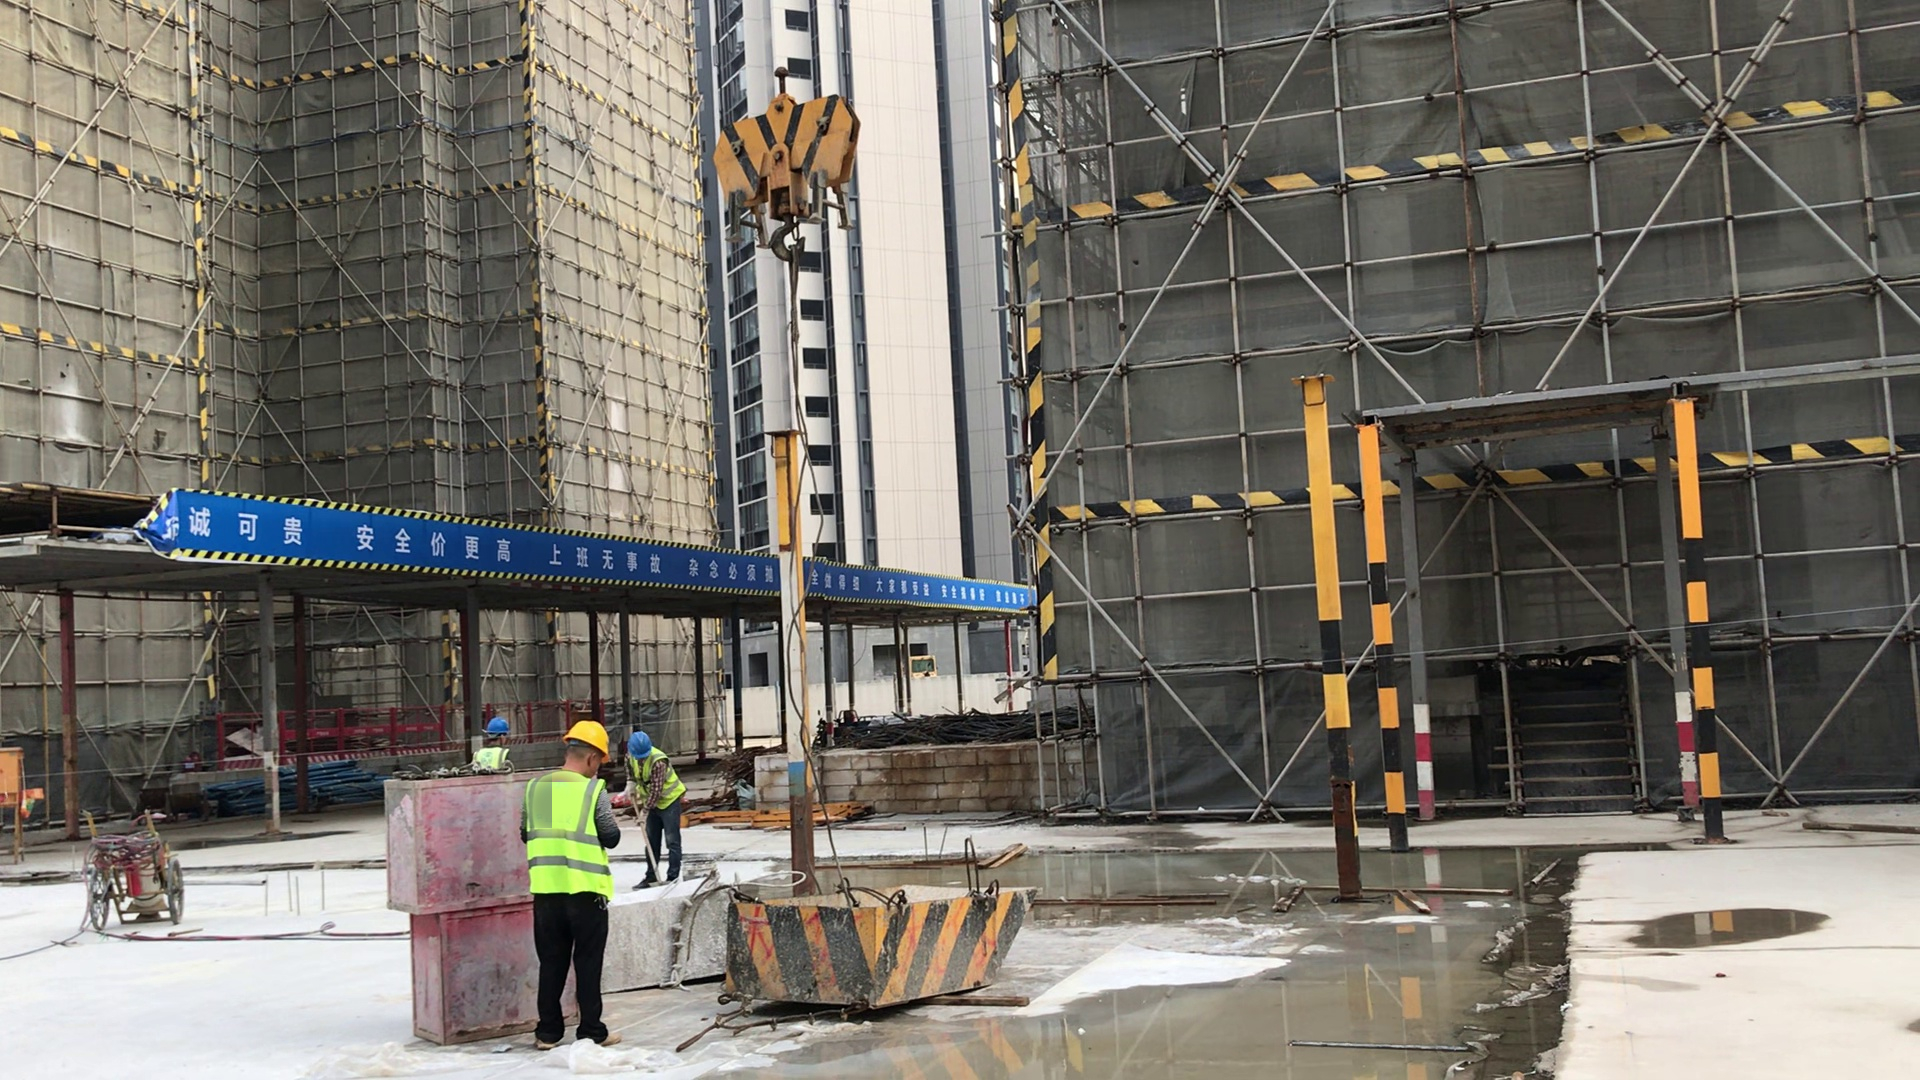fence: (220, 701, 567, 777)
handcart: (77, 807, 185, 924)
helmet: (559, 720, 608, 754), (626, 732, 652, 758), (486, 718, 509, 735)
hook: (709, 66, 861, 262)
hopper: (725, 880, 1046, 1010), (590, 872, 756, 992)
person: (520, 719, 626, 1050), (624, 731, 686, 890), (470, 716, 512, 773)
slogan: (163, 488, 1035, 616)
vest: (526, 773, 612, 898), (628, 748, 684, 810), (474, 747, 505, 769)
